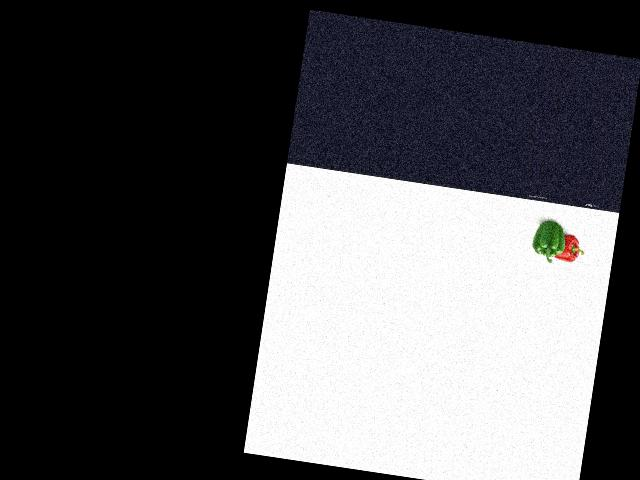bell_pepper: (552, 233, 586, 267)
